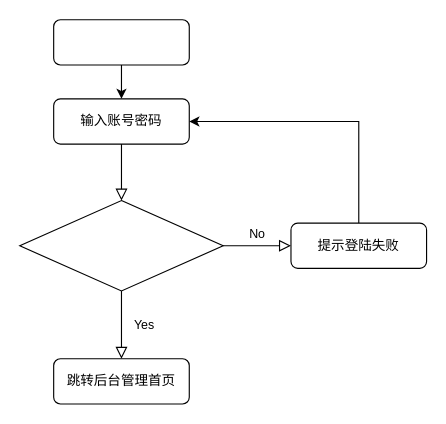
This 446x424 diagram has some shape labels left out. Here are the shapes that lost their labels. From the top down, the centre of each, then its label:
At [121,42]: "管理员登录".
At [121,245]: "账号密码是否正确？".
